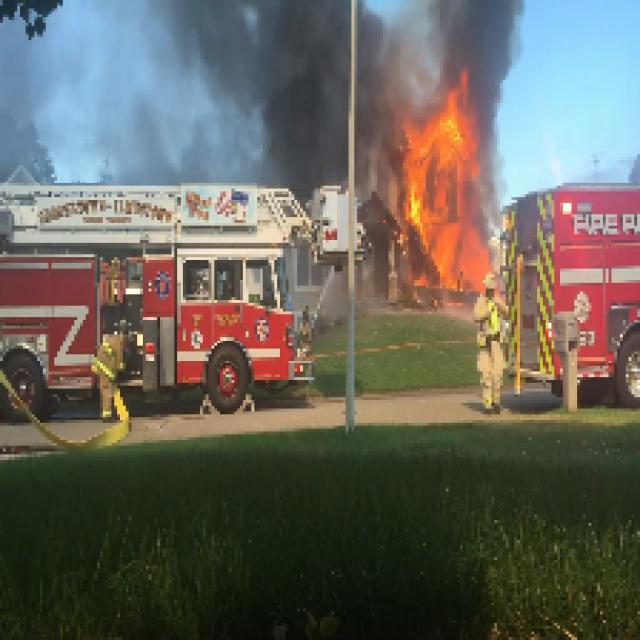fire: (403, 100, 488, 297)
smoke: (63, 1, 392, 184), (394, 2, 522, 88)
